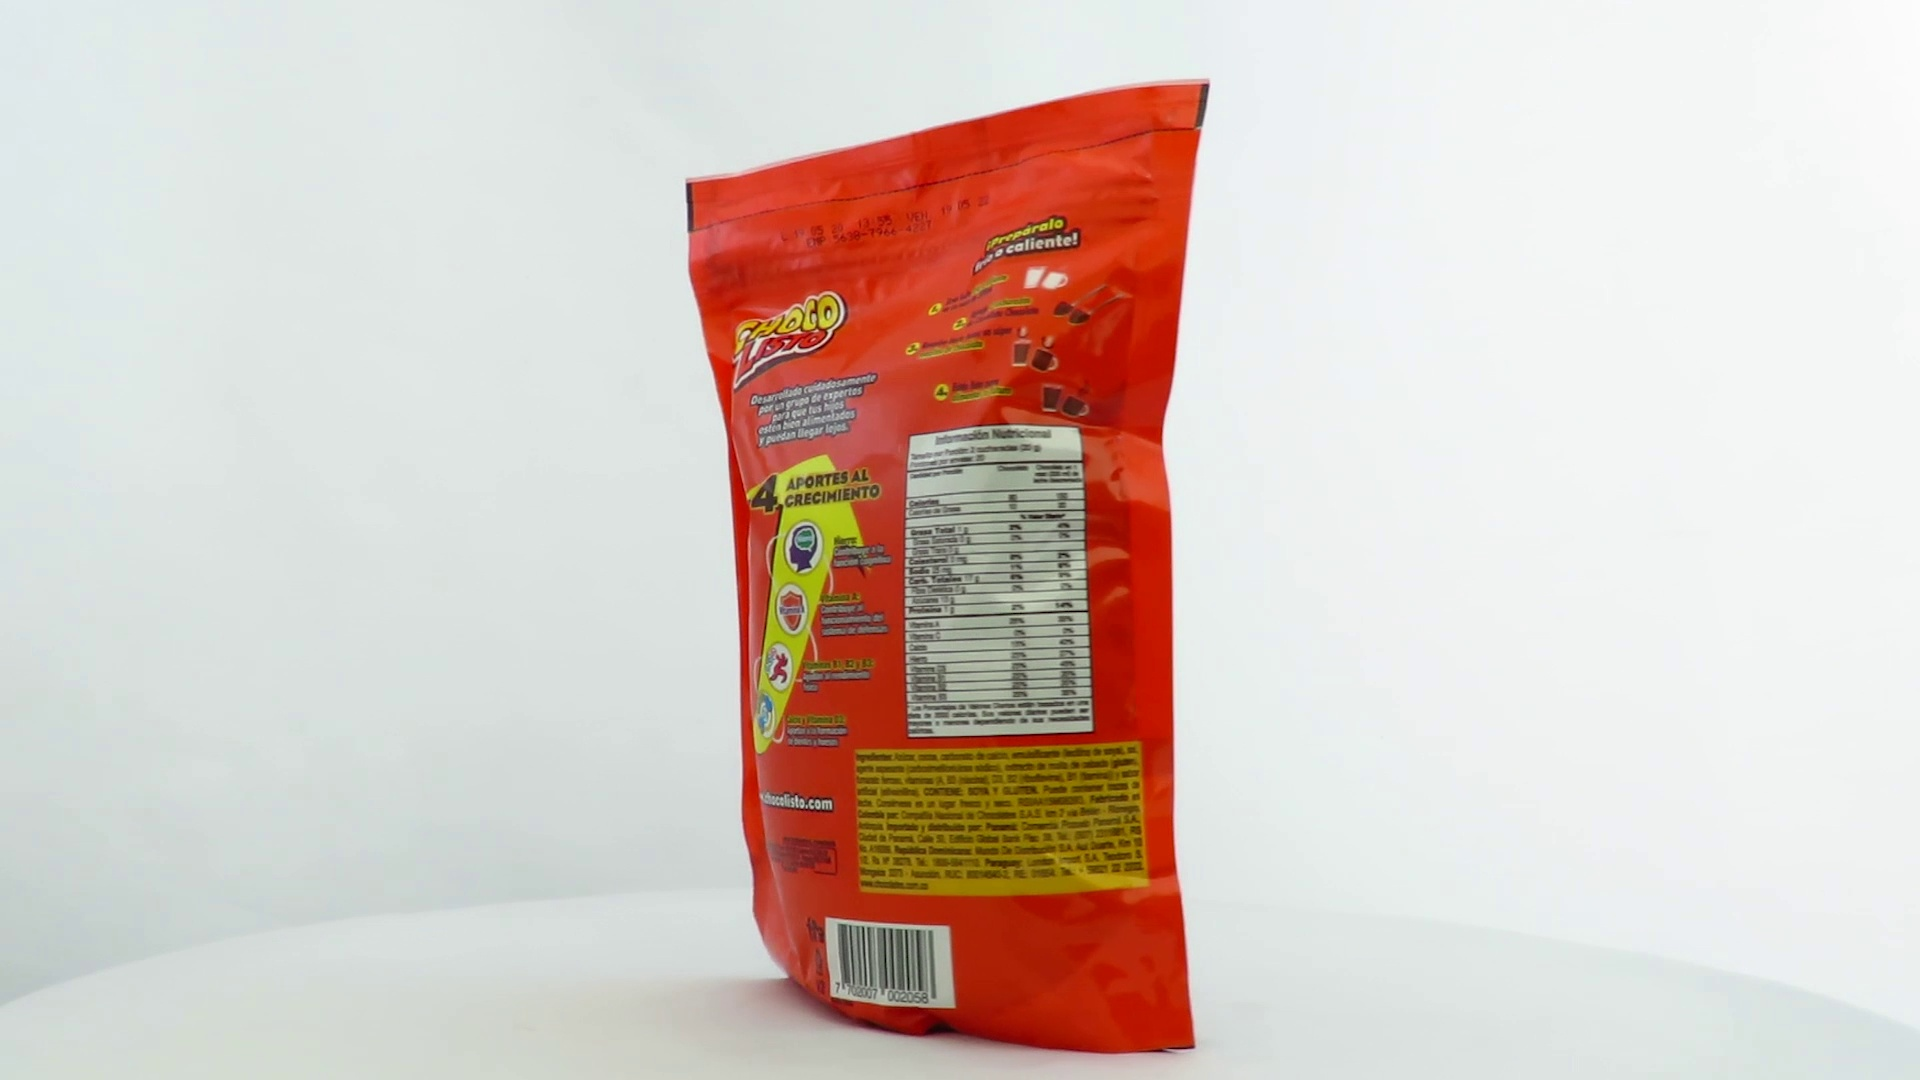COL0170103DYP40000: (680, 73, 1216, 1062)
